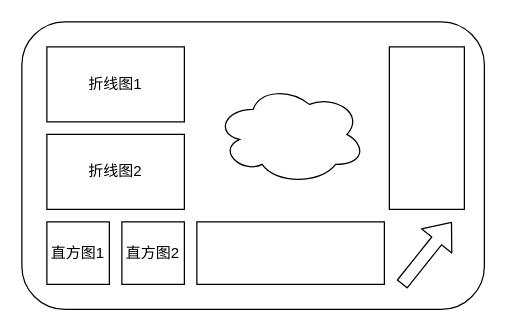
This 506x331 diagram has some shape labels left out. Here are the shapes that lost their labels. From the top down, the centre of each, then its label:
(x=426, y=127): 实时信息
(x=290, y=252): 折线图3
